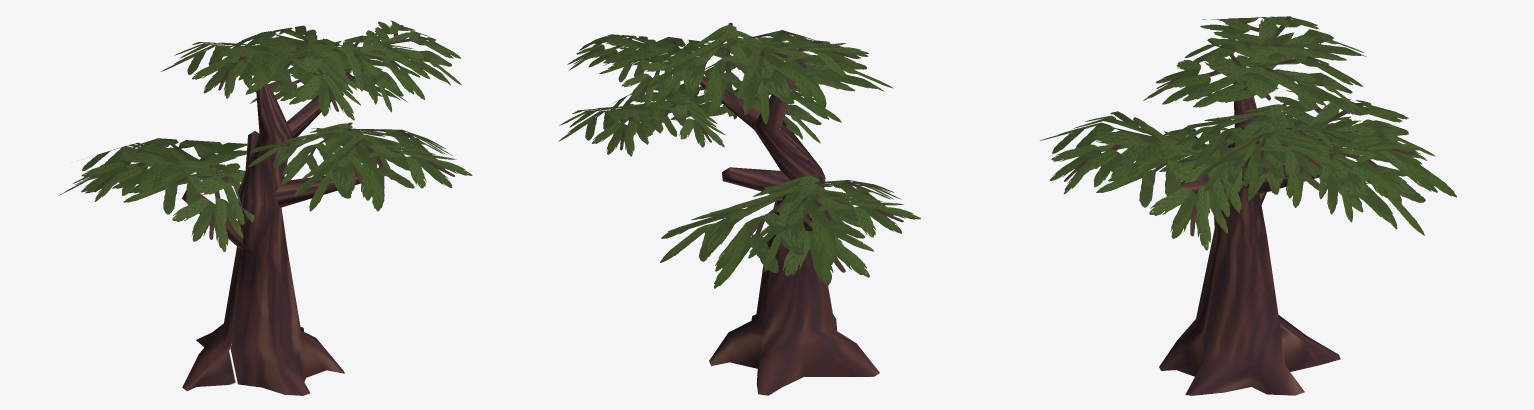
The model's file is FRM0210012.fbx.
3 renders of one model, left to right at view 1: azimuth 30°, elevation 25°; view 2: azimuth 150°, elevation 25°; view 3: azimuth 270°, elevation 25°, orthographic. The views are drawn at different scales.
Parts seen in each view (by area): view 1: smFRM0210012; view 2: smFRM0210012; view 3: smFRM0210012.
Boxes of the visible parts, bbox=[...] form: smFRM0210012: bbox=[59, 20, 472, 395]; smFRM0210012: bbox=[558, 22, 920, 395]; smFRM0210012: bbox=[1040, 16, 1456, 395].
Bounding box in the file's own units: 577 × 435 × 636.
1 material, 1 textured.
